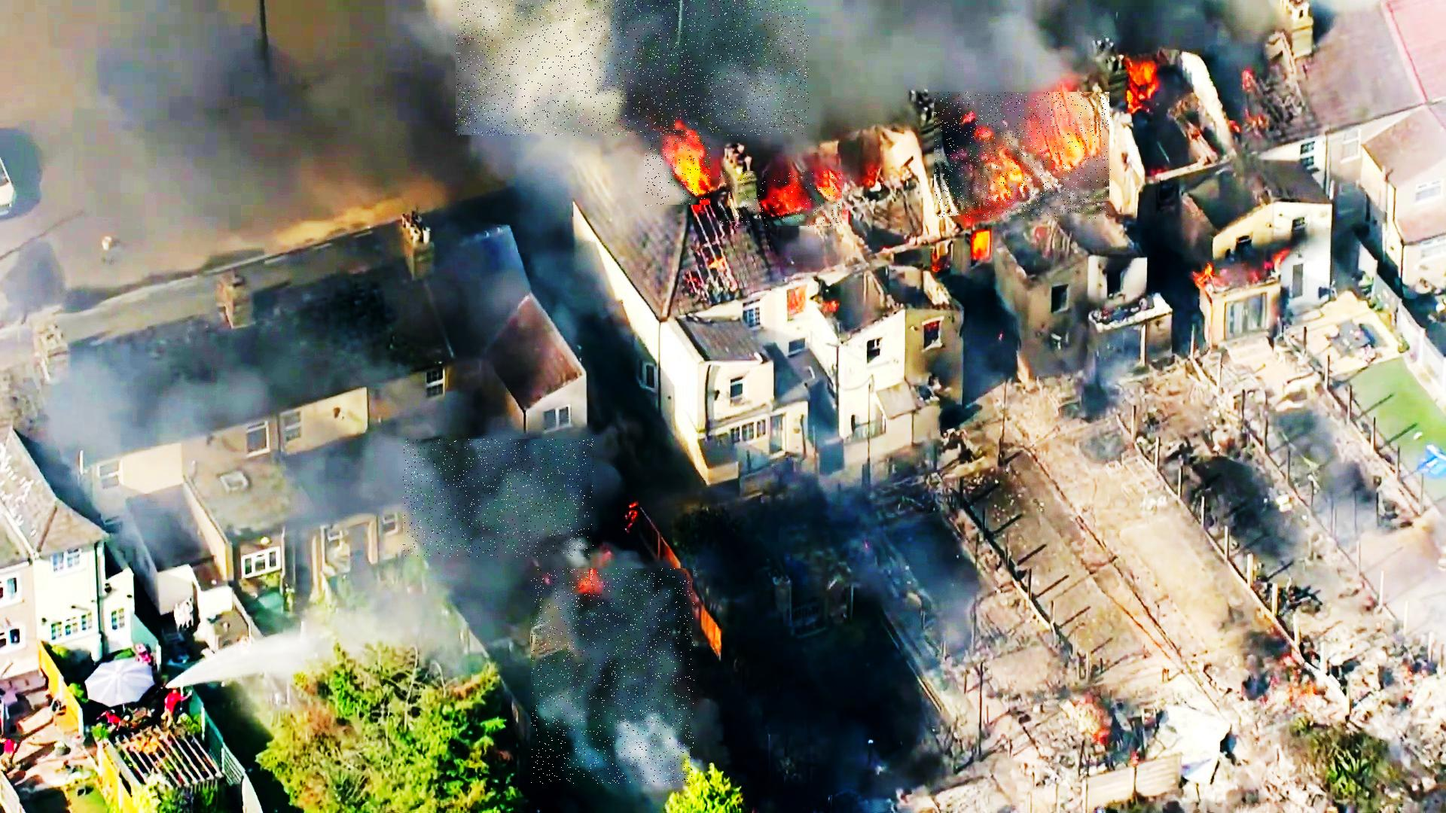fire: (934, 92, 1111, 219), (719, 172, 842, 228), (644, 132, 710, 207)
smoke: (456, 0, 809, 136), (532, 569, 695, 784), (403, 439, 594, 557)
